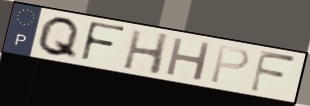F: (247, 48, 299, 95), (78, 20, 129, 64)
H: (121, 28, 172, 77), (164, 35, 214, 83)
P: (208, 44, 252, 86)
Q: (35, 15, 83, 62)
